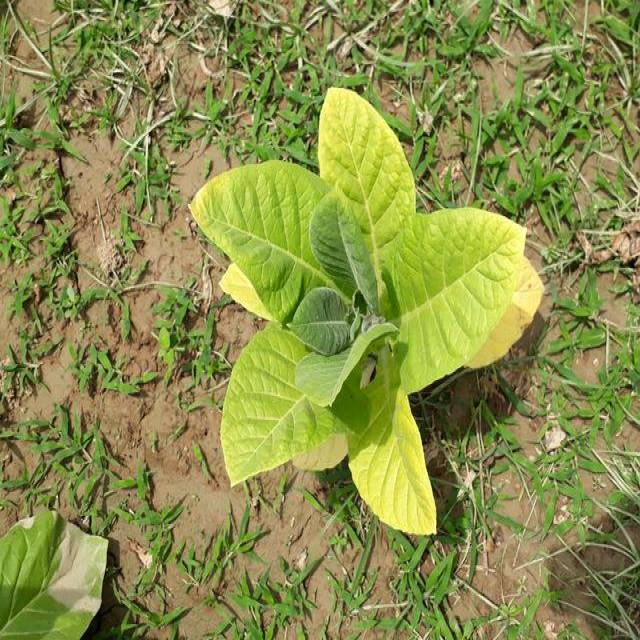crop: (182, 91, 539, 538)
